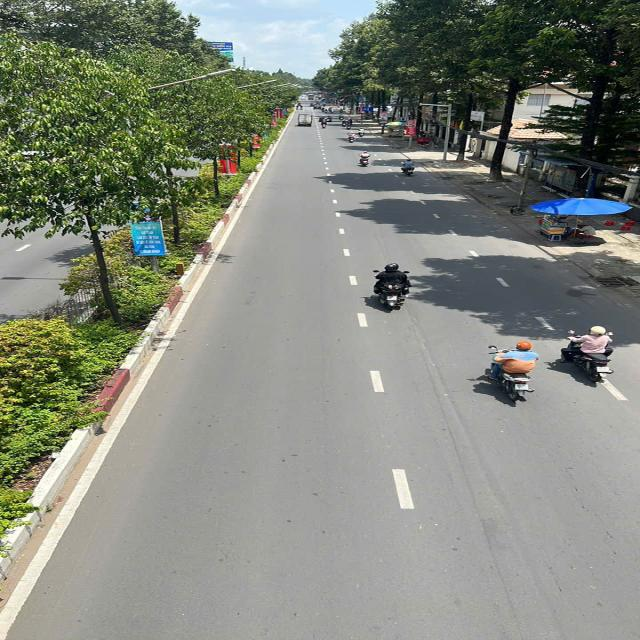ben: (294, 112, 316, 127)
motobyte: (484, 340, 541, 404), (562, 325, 618, 386), (369, 260, 415, 313), (397, 157, 420, 177), (355, 149, 375, 169), (345, 130, 359, 145)
